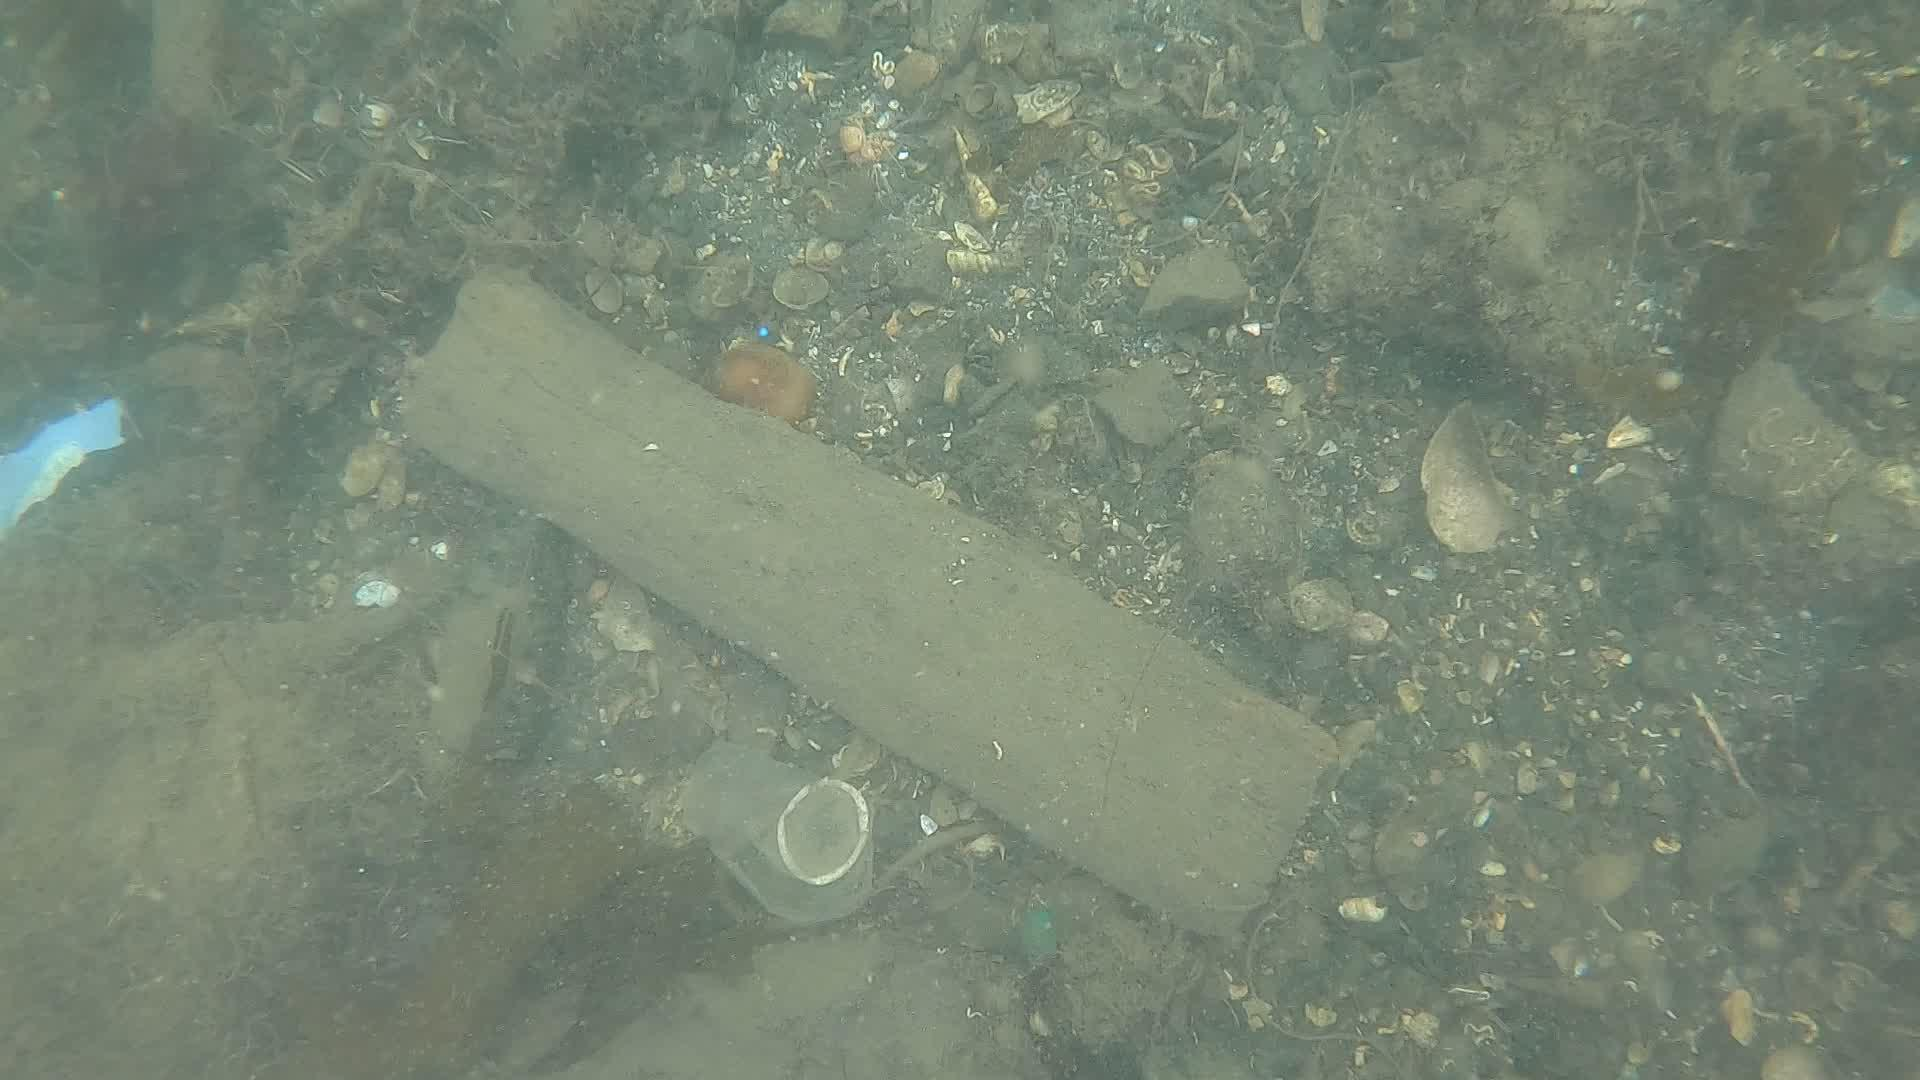wood: (398, 261, 1342, 943)
